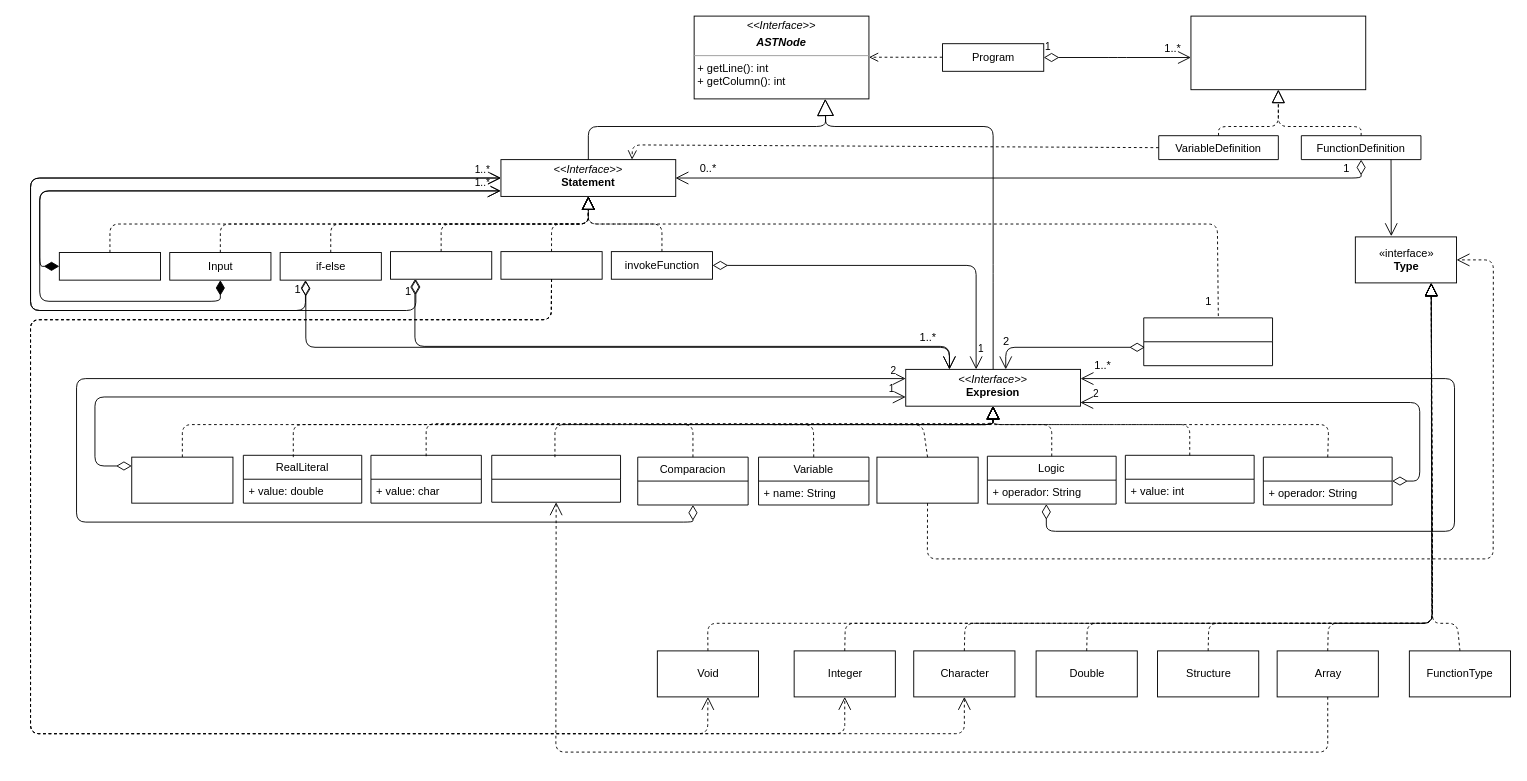
The diagram is 1527 pixels wide and 781 high, and some of its shapes have lost their labels. Each missing label, with the box of its shape:
<<Interface>> Definition + getType(): Type + getName(): String: (1190, 15, 1366, 90)
Arithmetic: (1262, 456, 1392, 505)
Assigment: (1143, 317, 1273, 366)
Cast: (876, 456, 978, 503)
CharLiteral: (370, 454, 481, 503)
Indexer: (491, 454, 621, 502)
IntLiteral: (1124, 454, 1254, 503)
Print: (58, 252, 161, 280)
Return: (500, 251, 602, 279)
UnaryMinus: (131, 456, 233, 503)
While: (390, 251, 492, 279)
